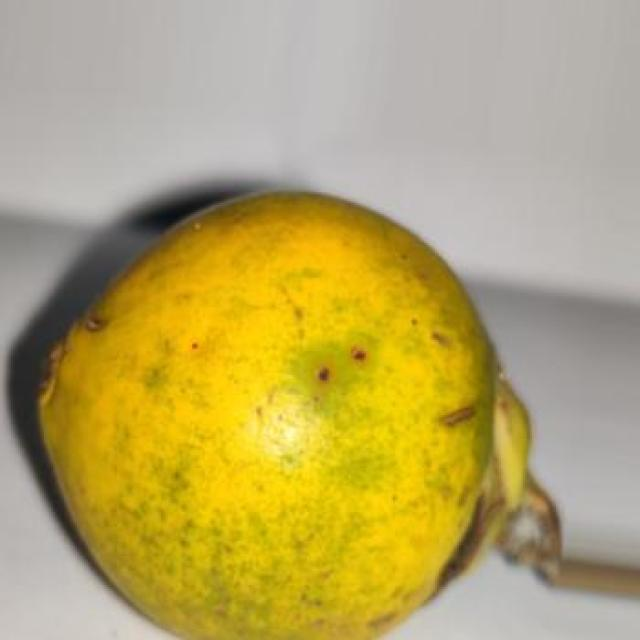good: (40, 197, 492, 638)
